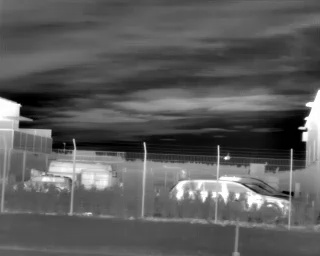HELICOPTER: (222, 151, 233, 163)
